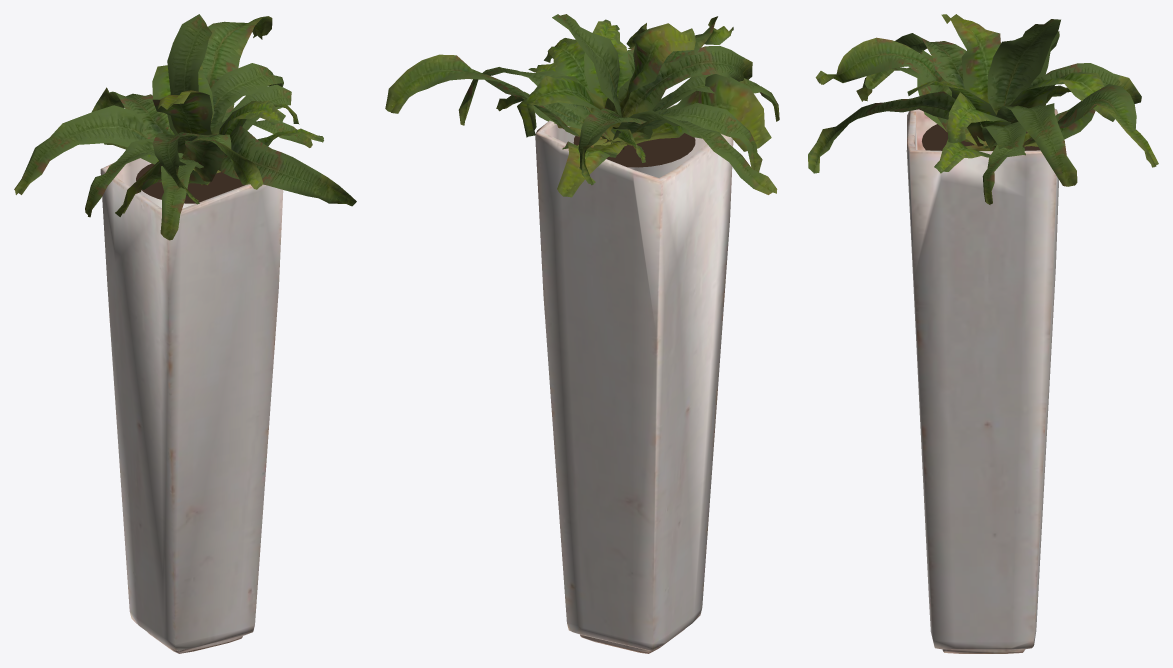
Rendered from maceta_helecho.glb.
The picture shows the model from 3 angles, left to right: view 1: azimuth 30°, elevation 25°; view 2: azimuth 150°, elevation 25°; view 3: azimuth 270°, elevation 25°; orthographic projection. The views are drawn at different scales.
Visible parts, largest first — view 1: ceramic_vase_03, fern_02_b, tierra; view 2: ceramic_vase_03, fern_02_b, tierra; view 3: ceramic_vase_03, fern_02_b, tierra.
Boxes of the visible parts, left/top/right/bottom form: ceramic_vase_03: left=100, top=158, right=283, bottom=653; fern_02_b: left=14, top=14, right=356, bottom=240; tierra: left=136, top=163, right=244, bottom=203; ceramic_vase_03: left=535, top=105, right=733, bottom=653; fern_02_b: left=385, top=14, right=779, bottom=197; tierra: left=573, top=133, right=695, bottom=167; ceramic_vase_03: left=906, top=109, right=1058, bottom=653; fern_02_b: left=808, top=14, right=1158, bottom=204; tierra: left=922, top=124, right=1039, bottom=150.
Size of the model in its own units: 0.5938 by 1.08 by 0.5362.
3 materials, 2 textured.
